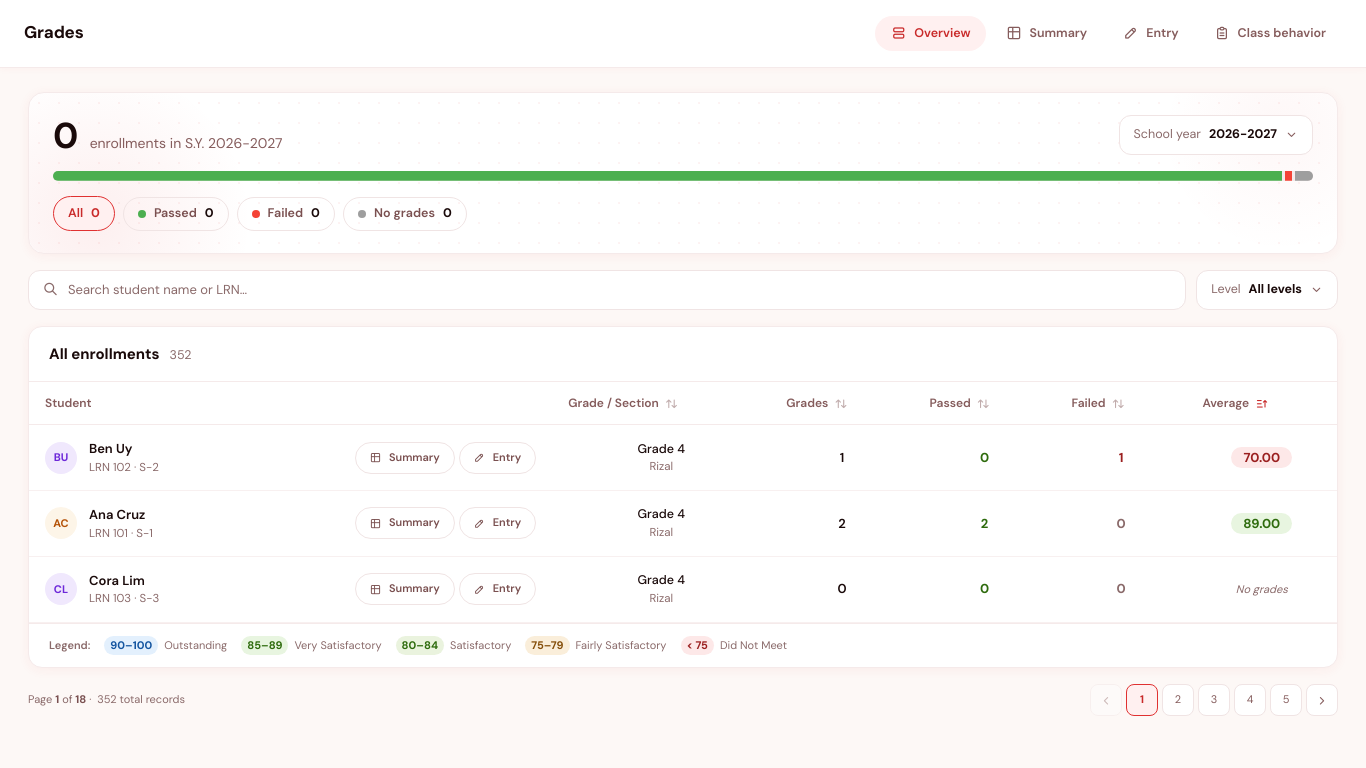
Grades overview — status band › filters the page by average from the legend, and clears on a second click
Click the button with aria-label "Failed 2" at (286, 214), box [237, 197, 335, 231]
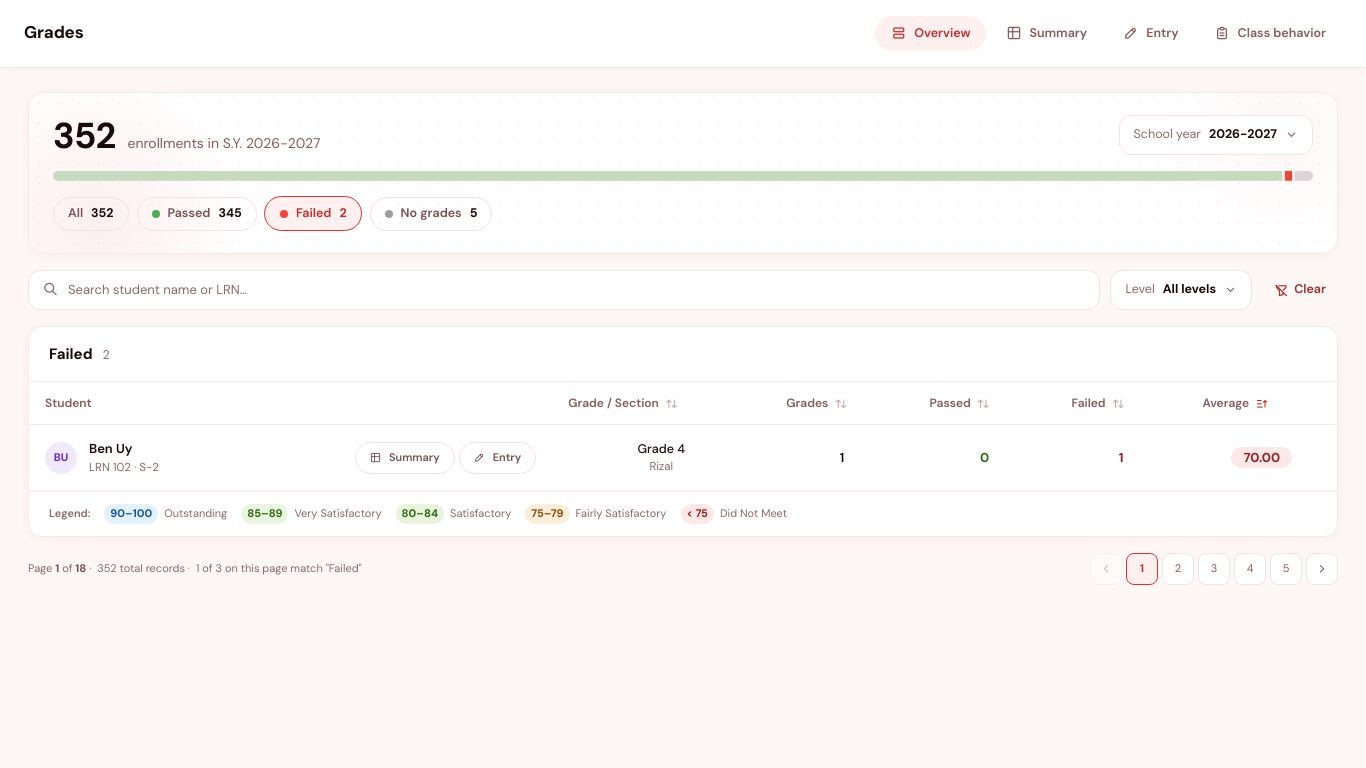
Expected: the text "Ana Cruz" is gone
Expected: the text "Cora Lim" is gone
Expected: the 2nd text "2" is shown, [102, 346, 110, 365]
Click the button "Failed 2" at (313, 214), box [265, 197, 362, 231]
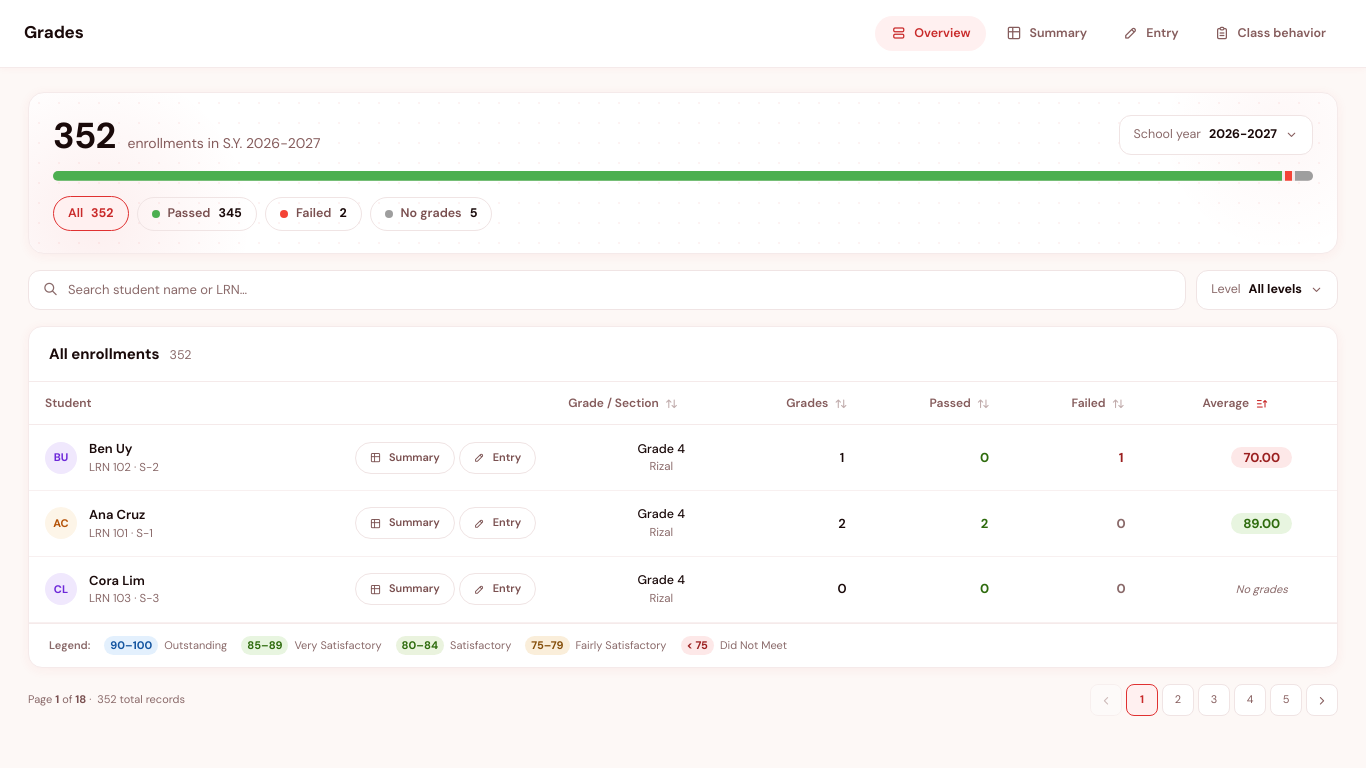
Expected: the text "Ana Cruz" is shown, [89, 506, 145, 523]
Expected: the heading "All enrollments" is shown, [49, 343, 160, 365]
